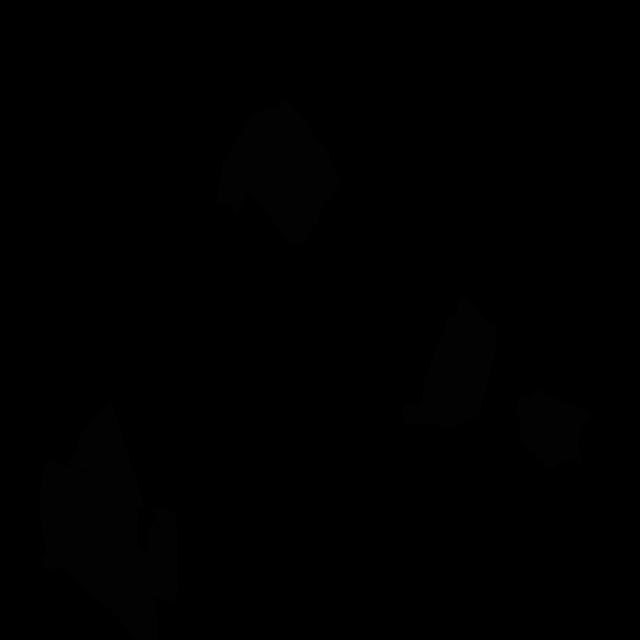cardboard: (38, 460, 158, 640), (216, 99, 340, 247), (401, 296, 497, 428), (67, 400, 146, 509), (516, 387, 588, 470), (146, 509, 178, 604)
